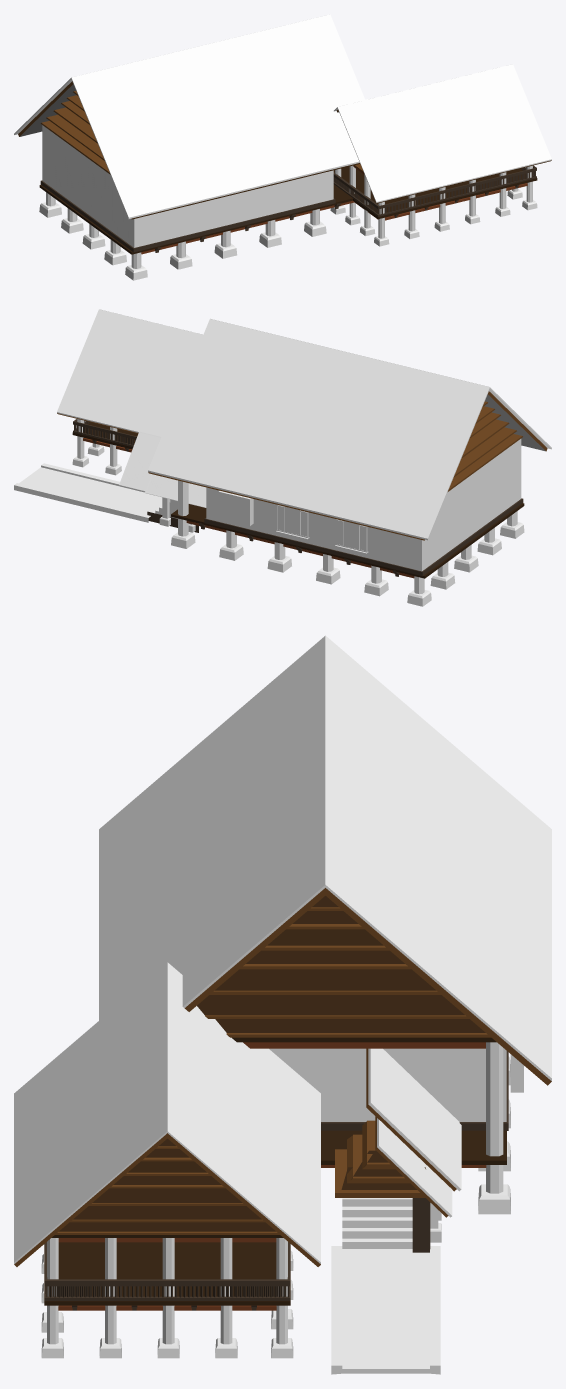
File: 02_rumah_adat_bugis.glb
3 renders of one model, top to bottom at view 1: azimuth 30°, elevation 25°; view 2: azimuth 150°, elevation 25°; view 3: azimuth 270°, elevation 25°, orthographic. The views are drawn at different scales.
Parts seen in each view (by area): view 1: genteng.001, genteng, frame tengah.004, atap sekat.001, tiang 4.001, lantai, tiang 4, frame tengah.005, tiang 3.001, lantai.001, frame tengah, tiang 3 (+5 smaller); view 2: genteng.001, genteng, frame tengah.004, Plane, tiang 2.001, atap sekat.001, frame tengah.005, tiang 3.001, lantai.001, Plane.010, Plane.011, CTRL_Hole (+7 smaller); view 3: genteng.001, genteng, Plane, frame tengah.004, lantai, Plane.011, tiang 1, atap sekat.001, sekat atap 2.001, sekat atap 3.001, tiang 2.001, sekat atap 1.001 (+21 smaller).
Part boxes in pixels (bbox=[...]): genteng.001: bbox=[14, 14, 365, 219]; genteng: bbox=[334, 64, 551, 203]; frame tengah.004: bbox=[42, 125, 333, 247]; atap sekat.001: bbox=[40, 91, 110, 174]; tiang 4.001: bbox=[125, 209, 326, 280]; lantai: bbox=[333, 166, 537, 219]; tiang 4: bbox=[374, 172, 510, 246]; frame tengah.005: bbox=[40, 180, 335, 252]; tiang 3.001: bbox=[39, 192, 126, 265]; lantai.001: bbox=[39, 171, 363, 254]; frame tengah: bbox=[333, 167, 535, 214]; tiang 3: bbox=[330, 165, 375, 236]; genteng.001: bbox=[148, 319, 551, 540]; genteng: bbox=[57, 309, 202, 436]; frame tengah.004: bbox=[206, 439, 521, 571]; Plane: bbox=[14, 463, 177, 522]; tiang 2.001: bbox=[171, 480, 388, 596]; atap sekat.001: bbox=[448, 401, 522, 491]; frame tengah.005: bbox=[204, 498, 523, 576]; tiang 3.001: bbox=[407, 527, 501, 606]; lantai.001: bbox=[171, 503, 524, 578]; Plane.010: bbox=[119, 431, 161, 491]; Plane.011: bbox=[145, 474, 206, 507]; CTRL_Hole: bbox=[218, 491, 253, 525]; genteng.001: bbox=[99, 635, 551, 1085]; genteng: bbox=[14, 962, 320, 1266]; Plane: bbox=[331, 1198, 440, 1374]; frame tengah.004: bbox=[269, 1048, 506, 1121]; lantai: bbox=[44, 1242, 290, 1305]; Plane.011: bbox=[366, 1048, 461, 1191]; tiang 1: bbox=[41, 1238, 237, 1358]; atap sekat.001: bbox=[205, 907, 490, 1037]; sekat atap 2.001: bbox=[197, 995, 464, 1015]; sekat atap 3.001: bbox=[215, 969, 435, 990]; tiang 2.001: bbox=[478, 1042, 510, 1214]; sekat atap 1.001: bbox=[215, 1019, 485, 1032].
Bounding box in the file's own units: 35.2 × 14.3 × 20.23.
